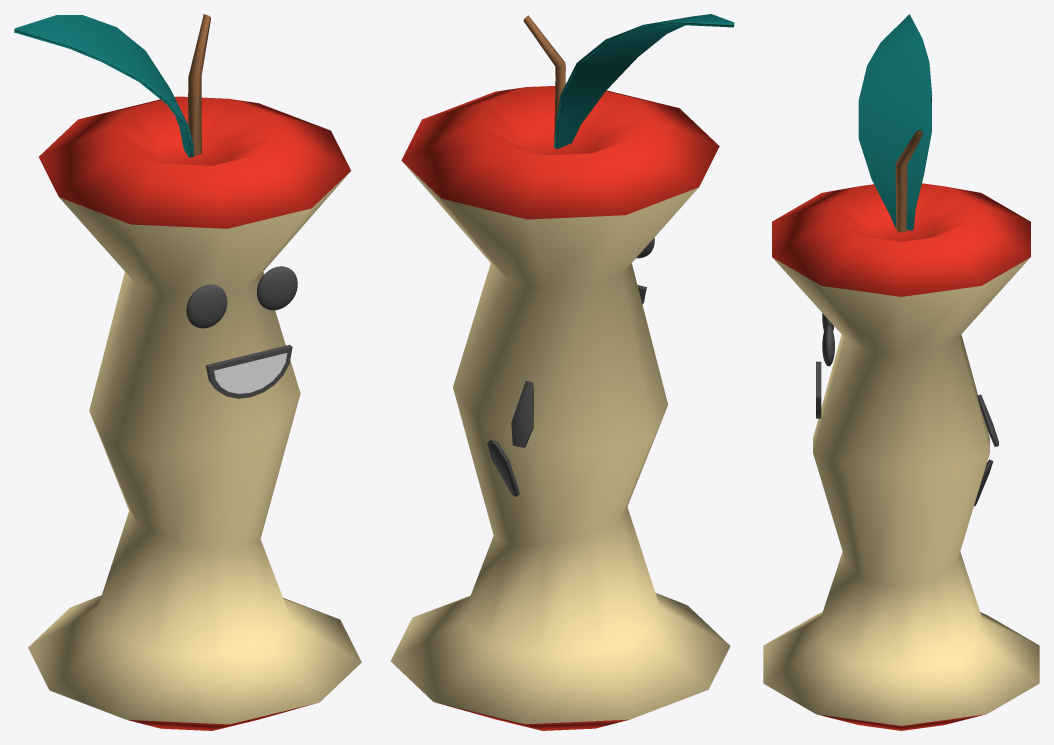
The model's file is apple_soft.fbx.
The picture shows the model from 3 angles, left to right: view 1: azimuth 30°, elevation 25°; view 2: azimuth 150°, elevation 25°; view 3: azimuth 270°, elevation 25°; orthographic projection. The views are drawn at different scales.
Visible parts, largest first — view 1: apple_core, face; view 2: apple_core; view 3: apple_core, face.
Part boxes in pixels (bbox=[...]): apple_core: bbox=[14, 14, 361, 730]; face: bbox=[186, 266, 297, 398]; apple_core: bbox=[390, 14, 734, 730]; apple_core: bbox=[763, 14, 1039, 730]; face: bbox=[816, 313, 834, 418].
Size of the model in its own units: 2.21 by 4.65 by 1.9.
Materials: 1 (1 with a texture image).
